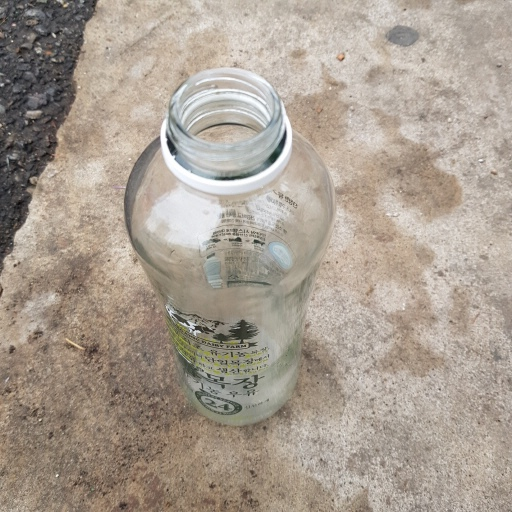Glass_4: (122, 68, 336, 428)
